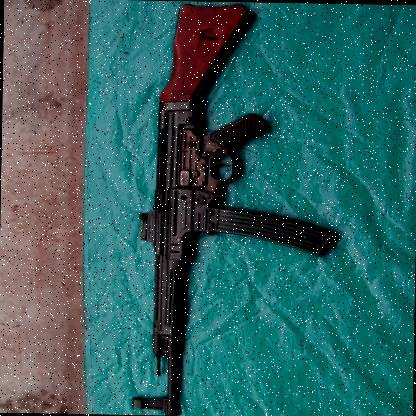rifle: (113, 4, 341, 416)
